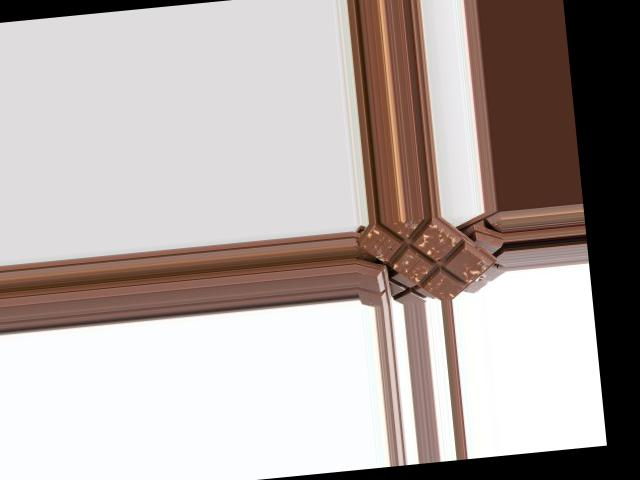chocolate: (356, 212, 490, 307)
